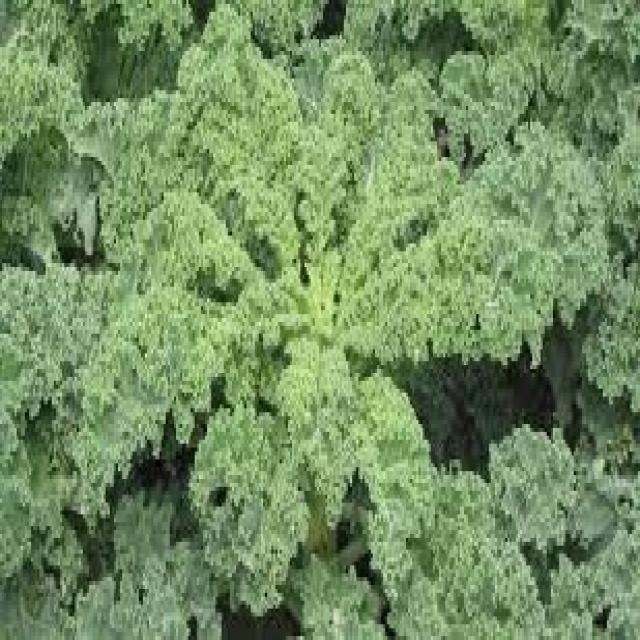organic: (8, 12, 640, 628)
